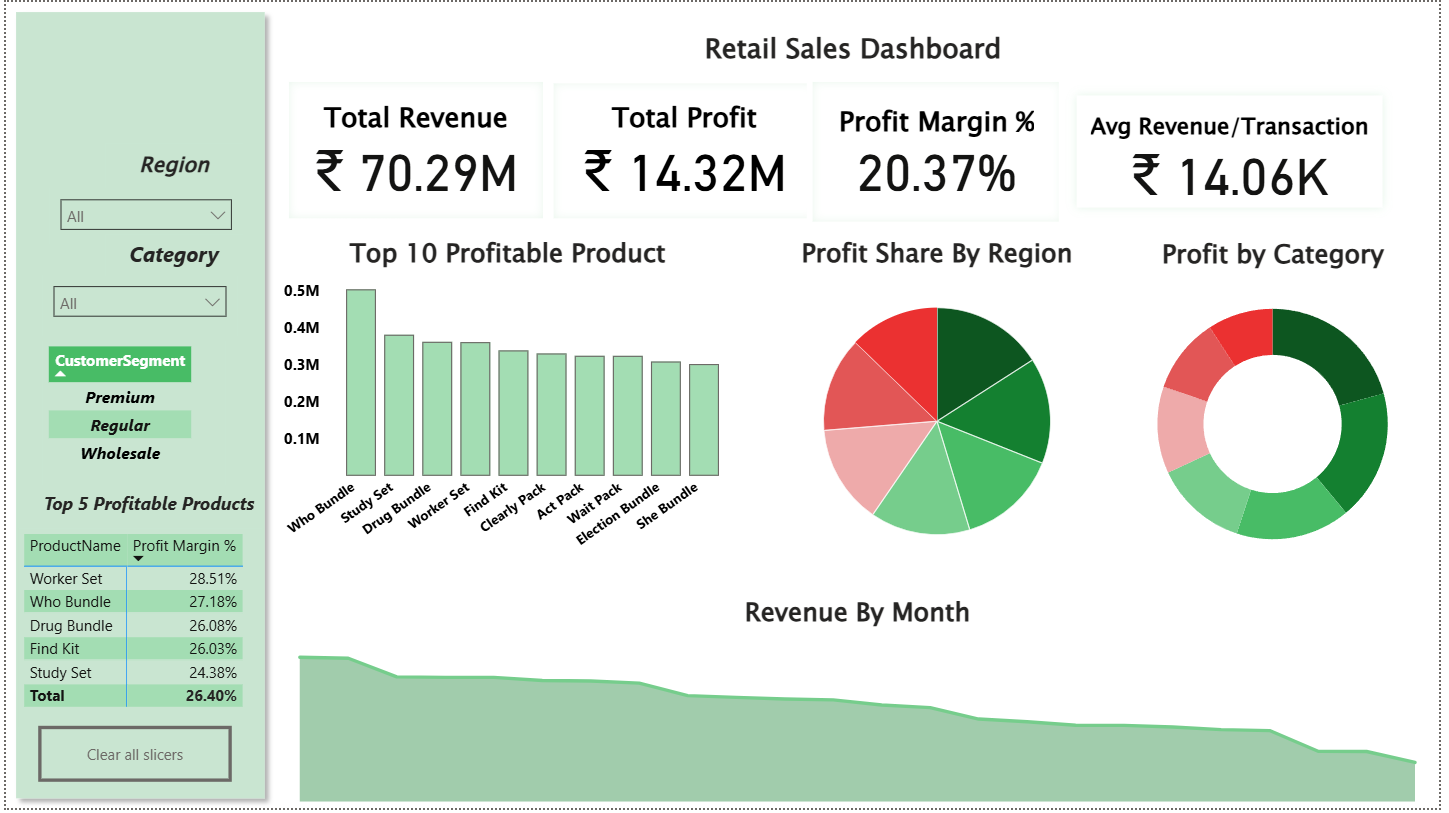

The page's visual inventory and layout, read from the dashboard file:
{"tool":"powerbi","page":{"name":"Page 1","canvas":[1280,720],"ordinal":0},"visuals":[{"type":"textbox","box":[448.1,18.2,615.3,48.4],"z":0},{"type":"shape","box":[0,0,240,720],"z":1000},{"type":"cardVisual","fields":{"Data":["retaildb customers.Total Revenue"]},"box":[247.1,66.7,237.1,132.9],"z":2000},{"type":"cardVisual","fields":{"Data":["retaildb customers.Total Profit"]},"box":[483.3,67.7,244.3,131.4],"z":3000},{"type":"cardVisual","fields":{"Data":["retaildb customers.Profit Margin %"]},"box":[715.2,66.7,232.9,135.7],"z":4000},{"type":"pieChart","title":"Profit Share By Region","fields":{"Category":["retaildb customers.Region Hierarchy.Region"],"Y":["Sum(retaildb transactions.Profit)"]},"box":[671.4,207.1,320,298.6],"z":5000},{"type":"donutChart","title":"Profit by Category","fields":{"Y":["Sum(retaildb transactions.Profit)"],"Category":["retaildb products.Category"]},"box":[990.8,207.1,279.8,299.2],"z":6000},{"type":"columnChart","title":"Top 10 Profitable Product","fields":{"Category":["retaildb products.ProductName Hierarchy.ProductName"],"Y":["Sum(retaildb transactions.Profit)"]},"box":[240,207.1,415.7,298.6],"z":7000},{"type":"tableEx","fields":{"Values":["retaildb vw_segment_revenue.CustomerSegment"]},"box":[46.2,302.5,163.8,128.8],"z":8000},{"type":"pivotTable","fields":{"Rows":["retaildb products.ProductName"],"Values":["retaildb customers.Profit Margin %"]},"box":[11.4,470,217.1,177.1],"z":9000},{"type":"slicer","fields":{"Values":["retaildb customers.Region Hierarchy.Region"]},"box":[11.2,166.2,217.5,50],"z":10000},{"type":"slicer","fields":{"Values":["retaildb products.Category"]},"box":[11.2,243.8,217.5,55],"z":11000},{"type":"stackedAreaChart","title":"Revenue By Month","fields":{"Category":["retaildb transactions_view.MonthYearLabel"],"Y":["Sum(retaildb transactions_view.Revenue)"]},"box":[239.8,528.1,1040.4,191.4],"z":12000},{"type":"actionButton","box":[23.8,647.5,172.5,50],"z":13000},{"type":"textbox","box":[78.6,115.7,122.9,40],"z":14000},{"type":"textbox","box":[67.5,126.2,122.5,40],"z":15000},{"type":"textbox","box":[67.5,216.2,122.5,36.2],"z":16000},{"type":"textbox","box":[28.6,431.4,200,35.7],"z":17000},{"type":"cardVisual","fields":{"Data":["retaildb customers.Avg Revenue per Transaction"]},"box":[940,67.1,305.7,132.9],"z":18000},{"type":"image","box":[11.2,0,228.8,126.2],"z":18001}]}

Visuals, with their boxes in screenshot pixels (x1, y1, x2, y2), scaled from the page's 1280x720 canvas onto the 1449x813 screenshot:
textbox: region(507, 21, 1204, 75)
shape: region(0, 0, 272, 812)
cardVisual - retaildb customers.Total Revenue: region(280, 75, 548, 225)
cardVisual - retaildb customers.Total Profit: region(547, 76, 824, 225)
cardVisual - retaildb customers.Profit Margin %: region(810, 75, 1073, 229)
"Profit Share By Region" pieChart: region(760, 234, 1122, 571)
"Profit by Category" donutChart: region(1122, 234, 1438, 572)
"Top 10 Profitable Product" columnChart: region(272, 234, 742, 571)
tableEx - retaildb vw_segment_revenue.CustomerSegment: region(52, 342, 238, 487)
pivotTable - retaildb products.ProductName x retaildb customers.Profit Margin %: region(13, 531, 259, 731)
slicer - retaildb customers.Region Hierarchy.Region: region(13, 188, 259, 244)
slicer - retaildb products.Category: region(13, 275, 259, 337)
"Revenue By Month" stackedAreaChart: region(271, 596, 1448, 812)
actionButton: region(27, 731, 222, 788)
textbox: region(89, 131, 228, 176)
textbox: region(76, 143, 215, 188)
textbox: region(76, 244, 215, 285)
textbox: region(32, 487, 259, 527)
cardVisual - retaildb customers.Avg Revenue per Transaction: region(1064, 76, 1410, 226)
image: region(13, 0, 272, 143)
